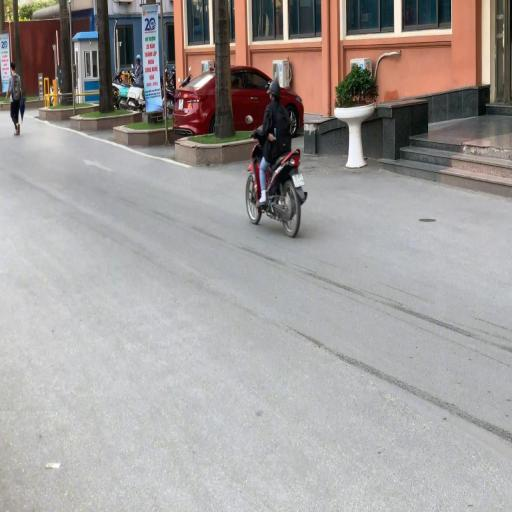bike: (244, 68, 308, 242)
numberplate: (290, 172, 306, 189)
with helmet: (268, 79, 278, 97)
